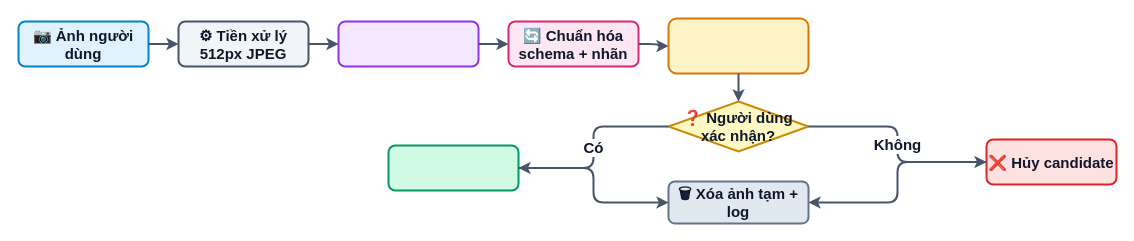
This 1134x241 diagram has some shape labels left out. The box of each missing label's shape, as (x1, y1, x2, y2) in pixels:
✅ Cập nhật profile: (387, 144, 519, 191)
👁 Qwen2.5-VL vóc dáng & tông da: (337, 20, 479, 67)
📋 profile_candidate (gửi UI xác nhận): (667, 17, 809, 74)
